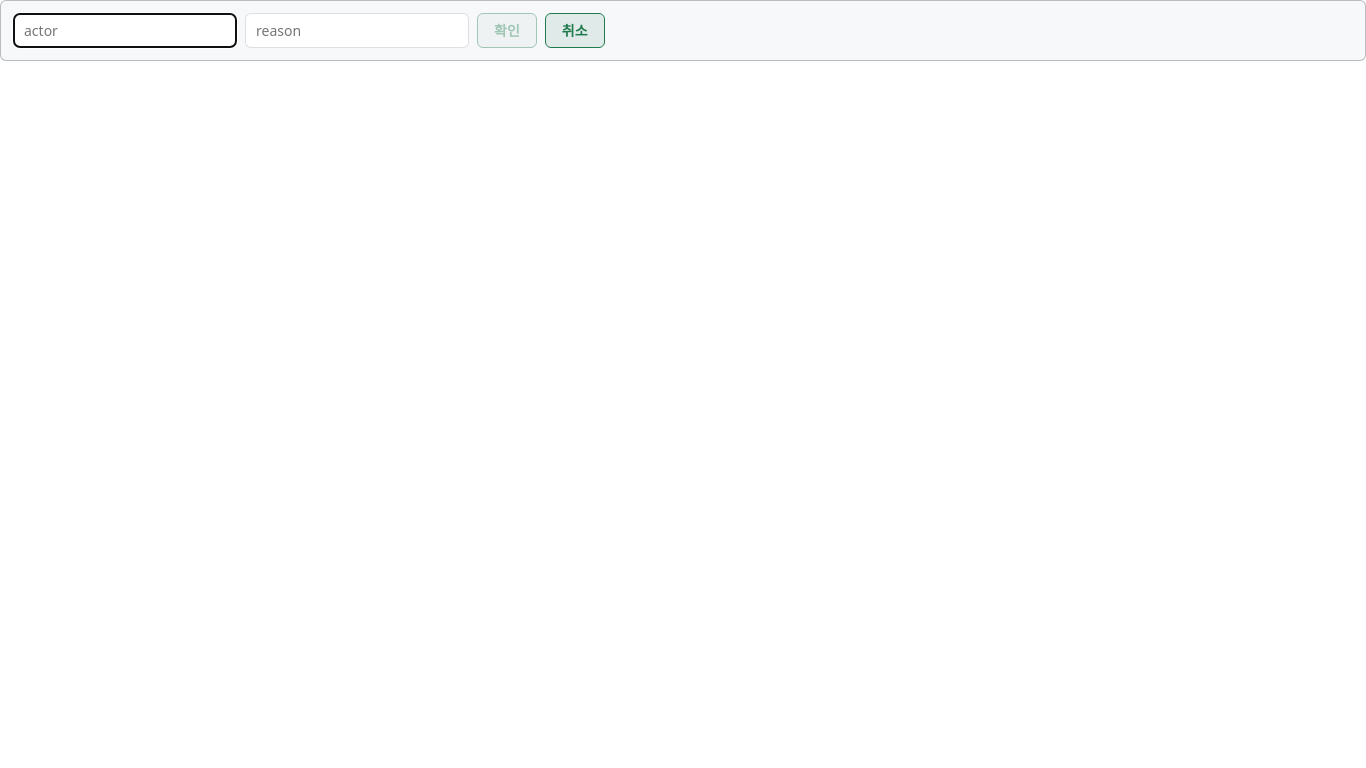
it: ConfirmDialog 422 표면화 (성공기준 2) › 승인 거부(422)면 백엔드 detail 메시지를 화면에 표면화한다
Type "alice" into the field with placeholder "actor". click: (125, 30)
box: [13,13,237,48]
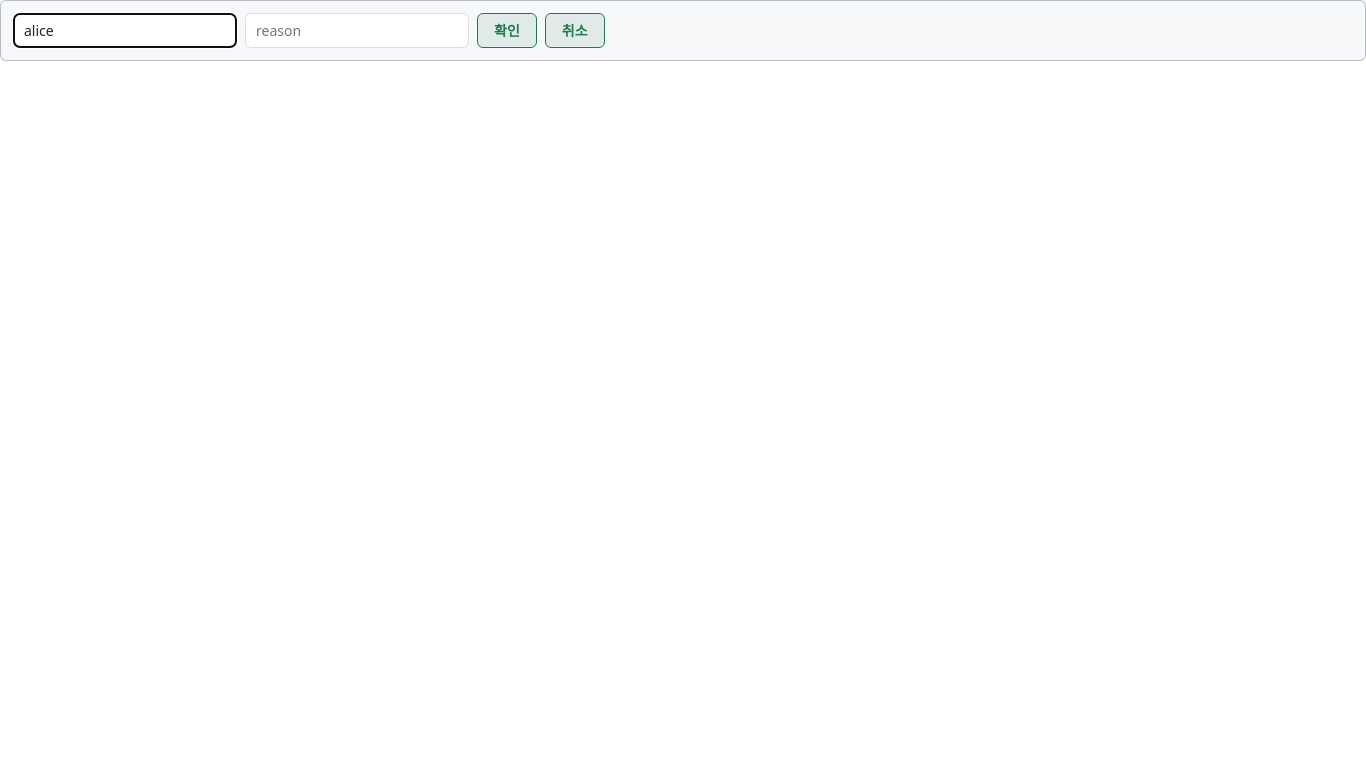
Click the button "확인". click: (507, 30)
box: [477,13,537,48]
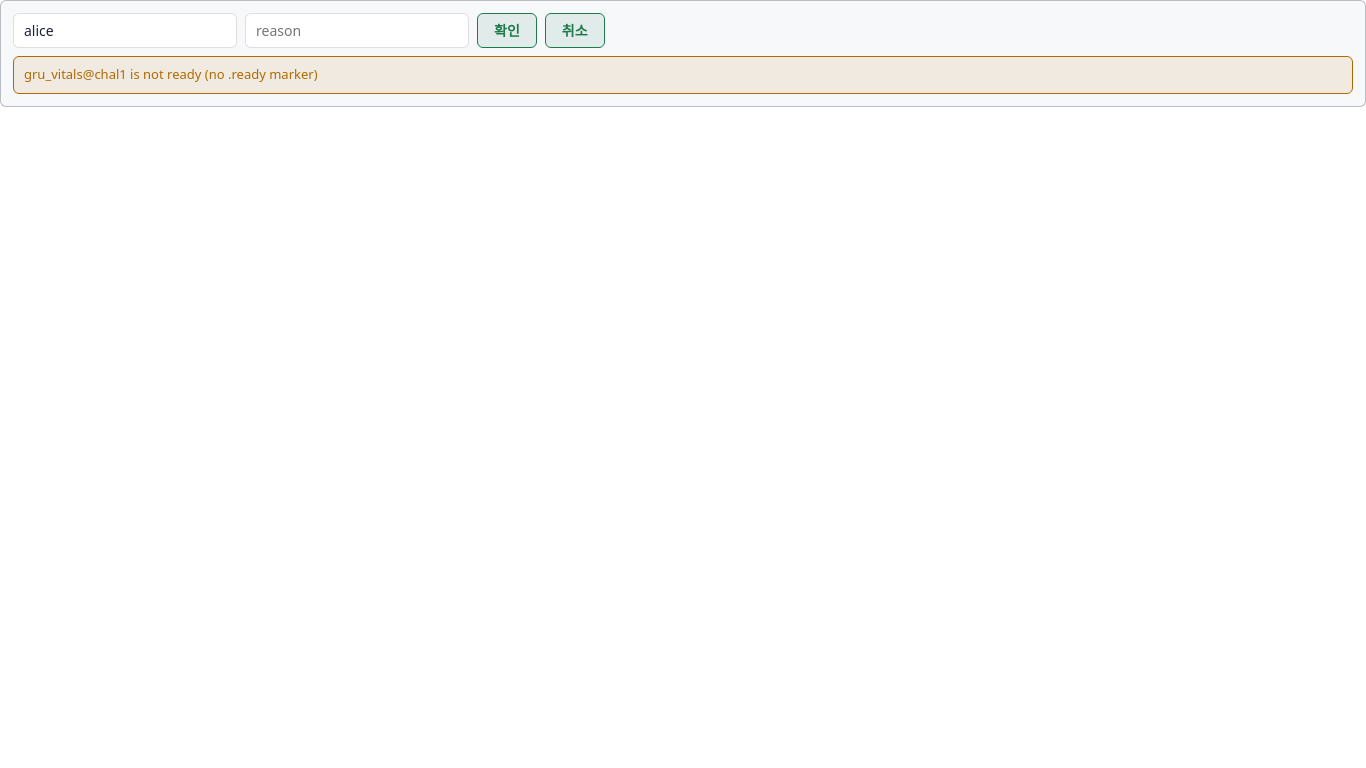
Check: the text "gru_vitals@chal1 is not ready (no .ready marker)" is shown, box [13,56,1353,94]
